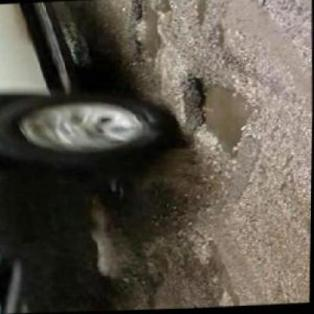Hueco: (182, 77, 258, 166), (125, 0, 176, 64), (203, 25, 225, 49), (192, 0, 208, 28), (292, 0, 311, 17)
